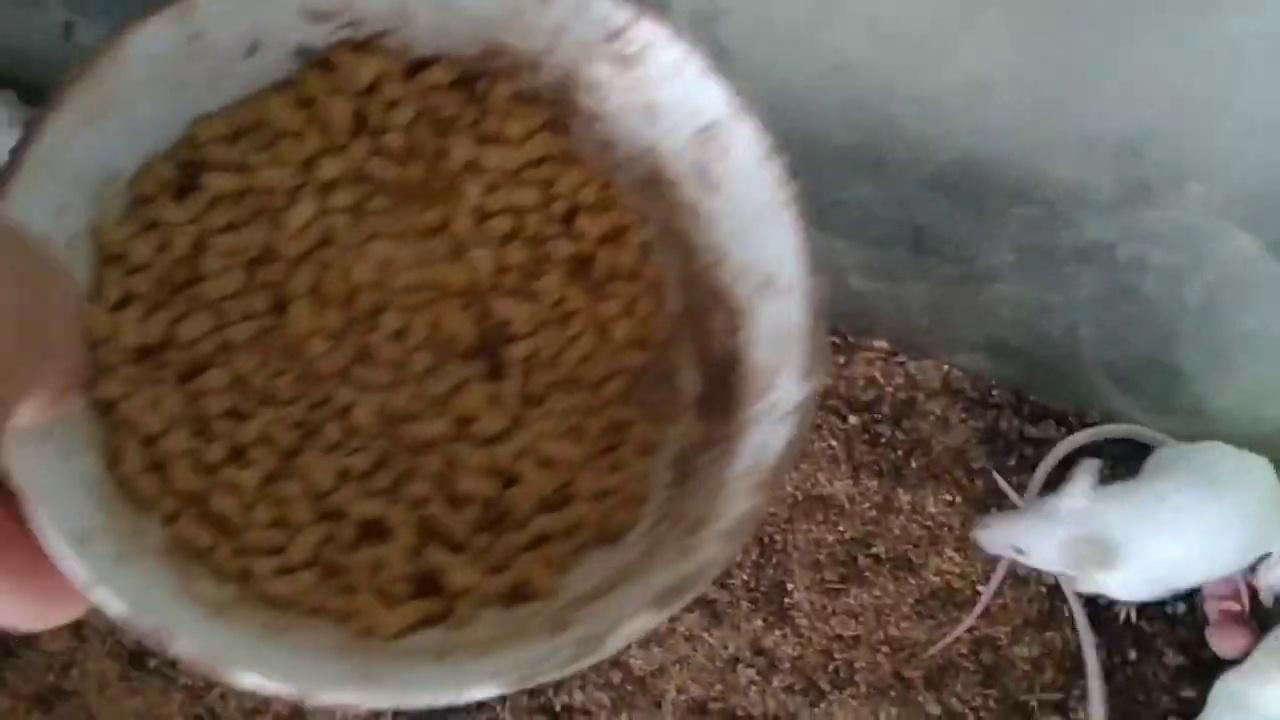rat: (971, 442, 1280, 623)
